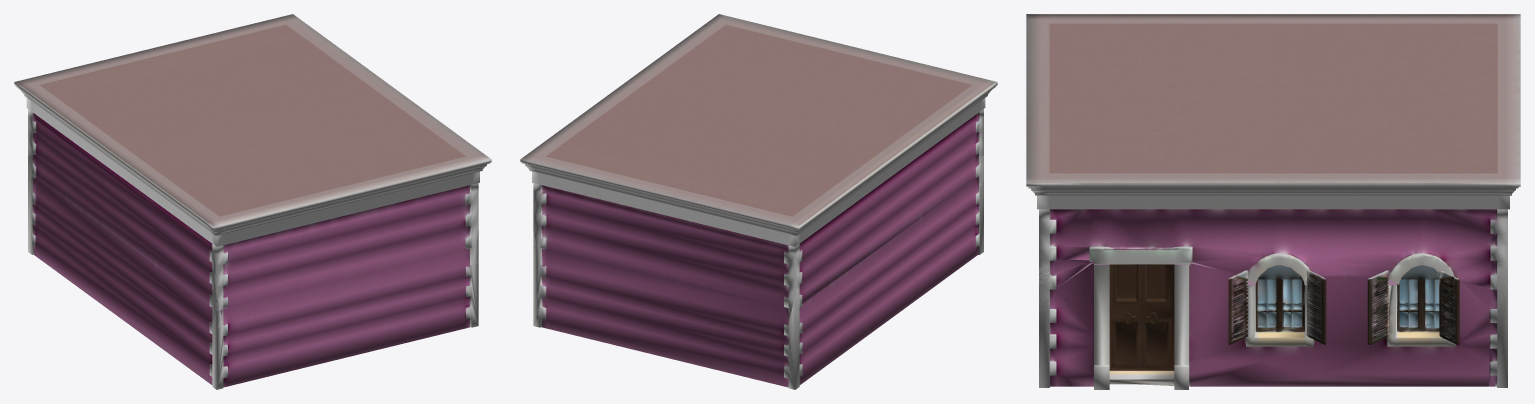
File: tripo_convert_18748032-2c84-4db0-be17-4e098bcb2613.fbx
The picture shows the model from 3 angles, left to right: view 1: azimuth 30°, elevation 25°; view 2: azimuth 150°, elevation 25°; view 3: azimuth 270°, elevation 25°; orthographic projection. The views are drawn at different scales.
Parts seen in each view (by area): view 1: tripo_node_18748032; view 2: tripo_node_18748032; view 3: tripo_node_18748032.
Boxes of the visible parts, x1,y1,x2,y2 form: tripo_node_18748032: (14, 14, 491, 389); tripo_node_18748032: (520, 14, 997, 389); tripo_node_18748032: (1026, 14, 1520, 389).
Bounding box in the file's own units: 0.8356 × 0.4677 × 1.
